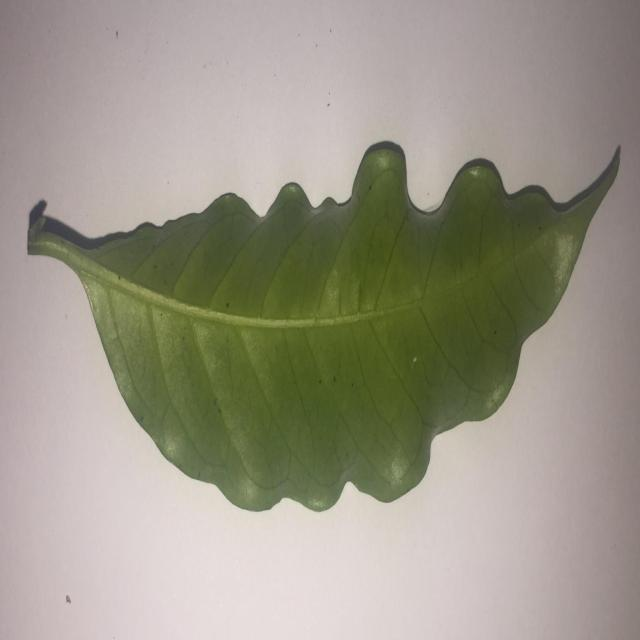nodisease: (27, 141, 620, 511)
